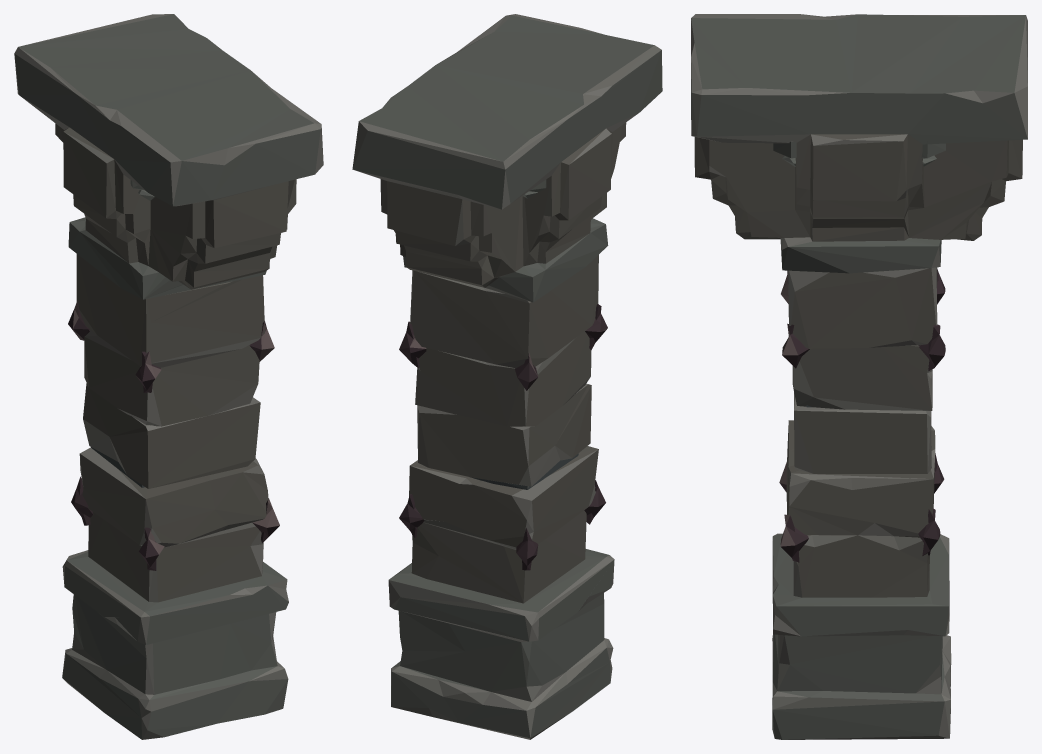
Rendered from MDungeons_Walls_Pillar_01.FBX.
3 views of the same model, side by side, from view 1: azimuth 30°, elevation 25°; view 2: azimuth 150°, elevation 25°; view 3: azimuth 270°, elevation 25° (orthographic). The views are drawn at different scales.
Parts seen in each view (by area): view 1: MDungeons_Walls_Pillar_01_LOD0; view 2: MDungeons_Walls_Pillar_01_LOD0; view 3: MDungeons_Walls_Pillar_01_LOD0.
Boxes of the visible parts, bbox=[...] form: MDungeons_Walls_Pillar_01_LOD0: bbox=[14, 14, 323, 739]; MDungeons_Walls_Pillar_01_LOD0: bbox=[352, 14, 662, 739]; MDungeons_Walls_Pillar_01_LOD0: bbox=[691, 14, 1027, 739].
Size of what is drawn, in the model's own units: 2.32 by 7.98 by 3.75.
